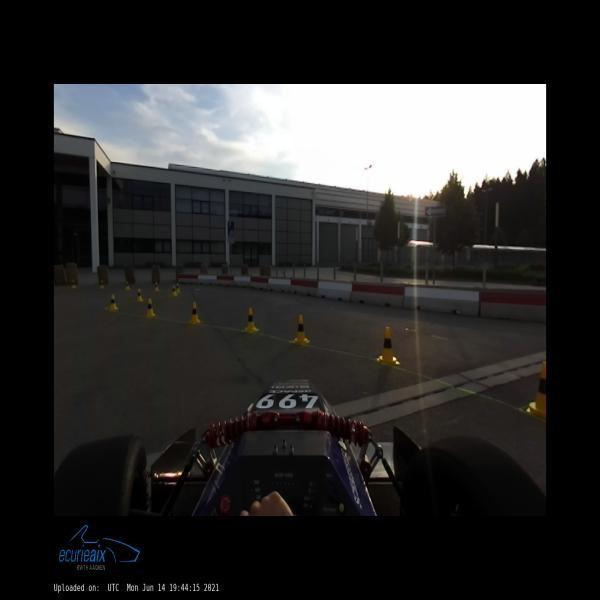yellow_cone: (526, 362, 546, 416), (377, 327, 400, 364), (293, 315, 310, 343), (244, 308, 257, 331), (189, 303, 200, 322), (146, 298, 154, 316), (109, 294, 117, 309), (136, 288, 142, 300), (175, 283, 180, 292), (172, 286, 176, 295), (154, 282, 158, 290), (72, 280, 76, 288), (100, 280, 103, 288), (126, 282, 128, 288)
